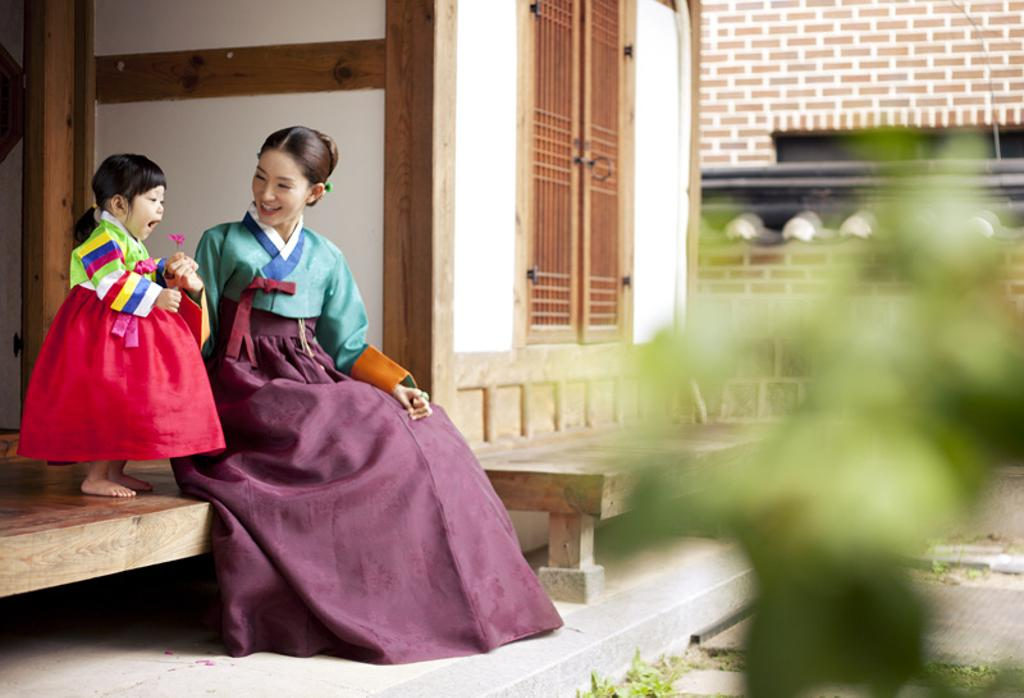face: (252, 149, 312, 225), (121, 183, 163, 240)
